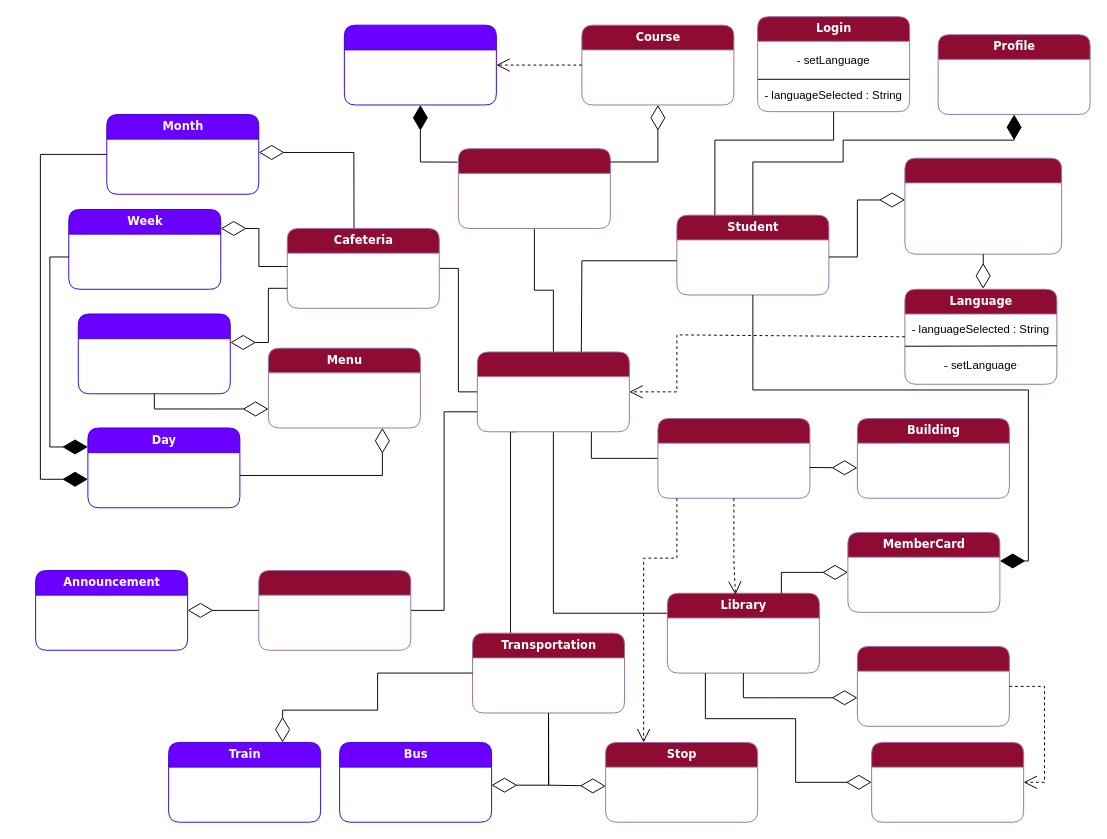
Some shapes in this 1107 by 839 pixel diagram are drawn without their labels. Here are the shapes that lost their labels. From the top down, the centre of each, then its label:
(x=419, y=64): Calendar
(x=533, y=188): CourseMenu
(x=983, y=205): Settings
(x=153, y=353): Today
(x=552, y=391): MainMenu
(x=733, y=458): Map
(x=334, y=610): News
(x=932, y=686): Book
(x=947, y=781): BorrowingHistory
